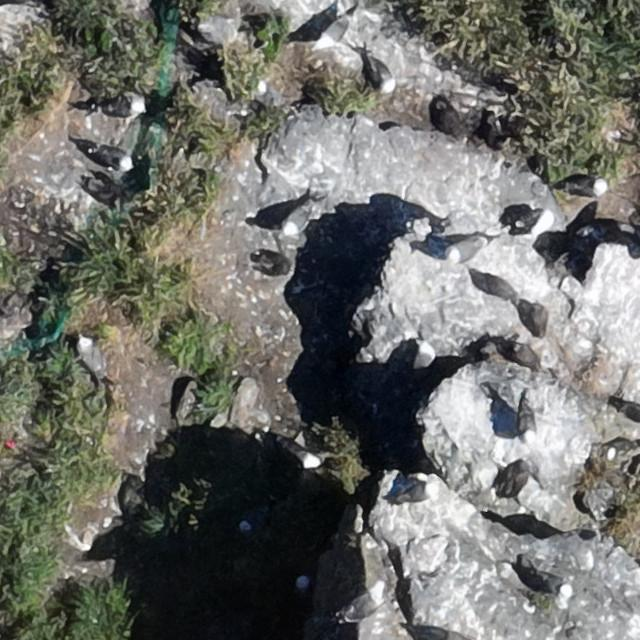umineko: (341, 575, 384, 626), (280, 436, 326, 470), (527, 570, 574, 602), (93, 91, 149, 115), (89, 144, 134, 173), (366, 58, 398, 96), (238, 504, 274, 536), (76, 336, 103, 378), (512, 209, 552, 236), (517, 403, 540, 449), (285, 207, 309, 236), (448, 240, 479, 260), (568, 180, 602, 197), (400, 484, 431, 502), (319, 24, 342, 46), (416, 342, 432, 367), (294, 574, 310, 593), (607, 445, 627, 459)
